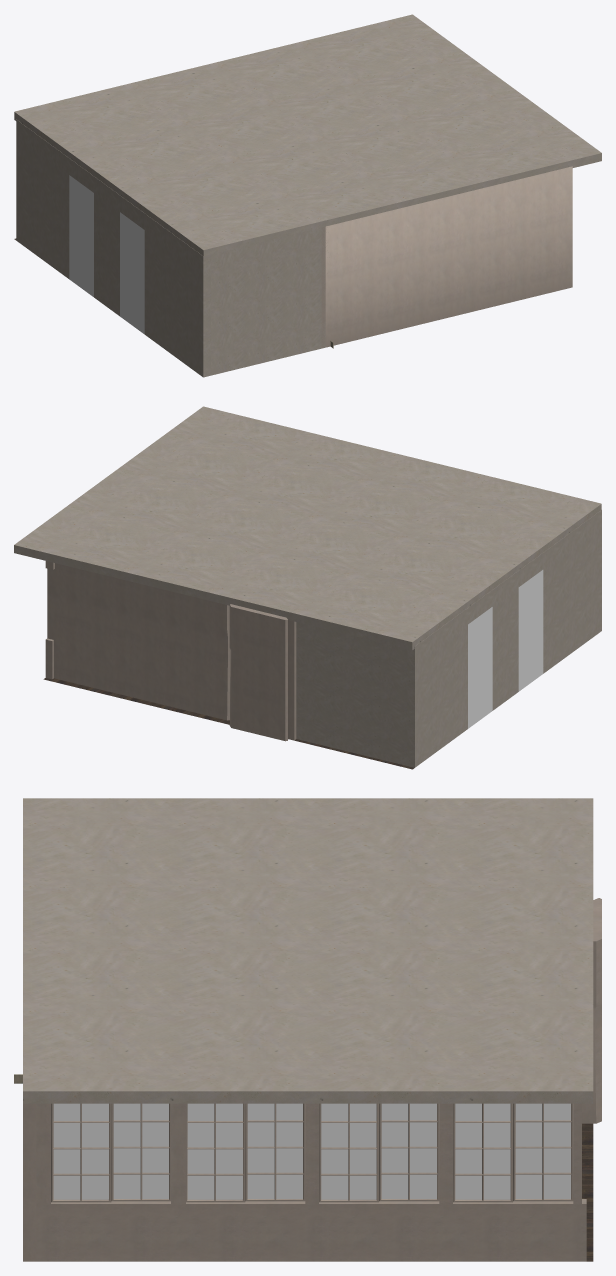
File: ClassroomSceneV4.fbx
The picture shows the model from 3 angles, top to bottom: view 1: azimuth 30°, elevation 25°; view 2: azimuth 150°, elevation 25°; view 3: azimuth 270°, elevation 25°; orthographic projection. The views are drawn at different scales.
Parts seen in each view (by area): view 1: Ceiling, Walls, Walls_2, HallWindowGlass; view 2: Ceiling, Walls, Walls_2, HallWindowGlass, Floor; view 3: Ceiling, Walls_2, WindowGlass, WindowFrames, Floor.
Boxes of the visible parts, <box> form: Ceiling: <box>14,14,601,256</box>; Walls: <box>16,119,325,377</box>; Walls_2: <box>321,166,572,348</box>; HallWindowGlass: <box>69,175,144,334</box>; Ceiling: <box>14,406,601,650</box>; Walls: <box>296,510,601,767</box>; Walls_2: <box>45,561,296,741</box>; HallWindowGlass: <box>468,570,543,728</box>; Floor: <box>43,678,414,769</box>; Ceiling: <box>23,798,593,1103</box>; Walls_2: <box>23,898,601,1261</box>; WindowGlass: <box>53,1103,570,1199</box>; WindowFrames: <box>51,1103,573,1202</box>; Floor: <box>582,1123,593,1261</box>.
Bounding box in the file's own units: 1017 × 311 × 862.
